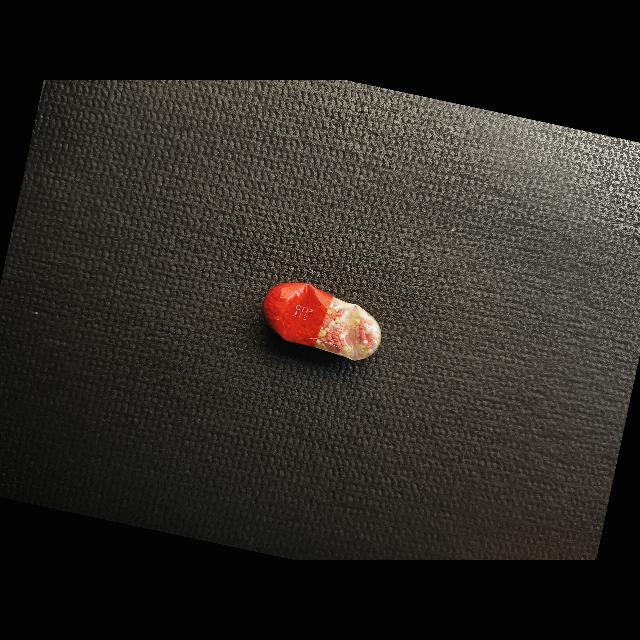Defective Capsule: (263, 283, 381, 361)
